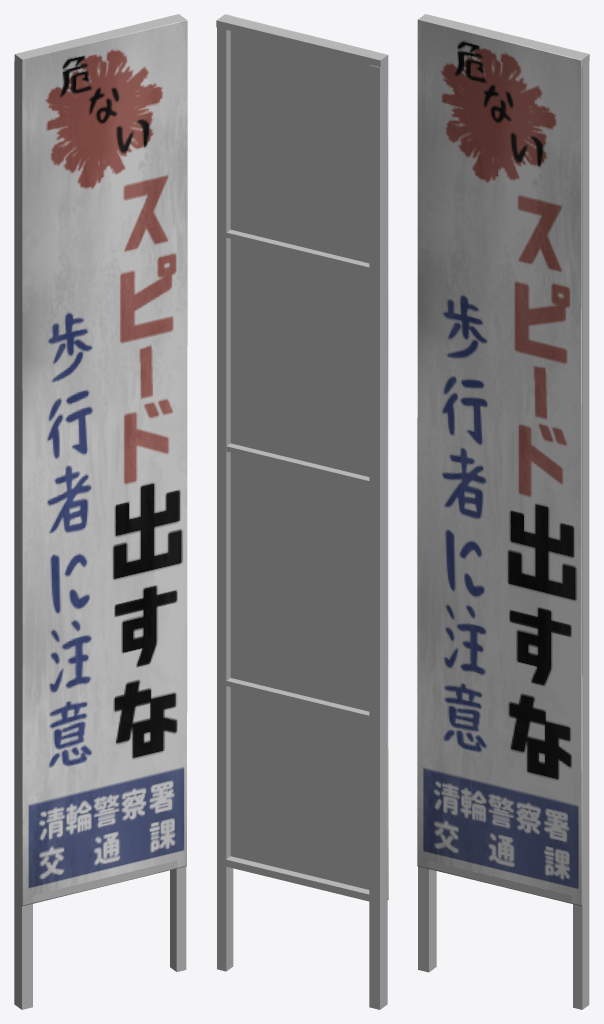
The model's file is signboard_1_09.fbx.
The picture shows the model from 3 angles, left to right: view 1: azimuth 30°, elevation 25°; view 2: azimuth 150°, elevation 25°; view 3: azimuth 330°, elevation 25°; orthographic projection.
Parts seen in each view (by area): view 1: signboard_1_09; view 2: signboard_1_09; view 3: signboard_1_09.
Part boxes in pixels (x1=…): signboard_1_09: x1=14, y1=14, x2=187, y2=1009; signboard_1_09: x1=216, y1=14, x2=388, y2=1009; signboard_1_09: x1=417, y1=14, x2=589, y2=1009.
Bounding box in the file's own units: 0.2926 × 1.62 × 0.0286.
